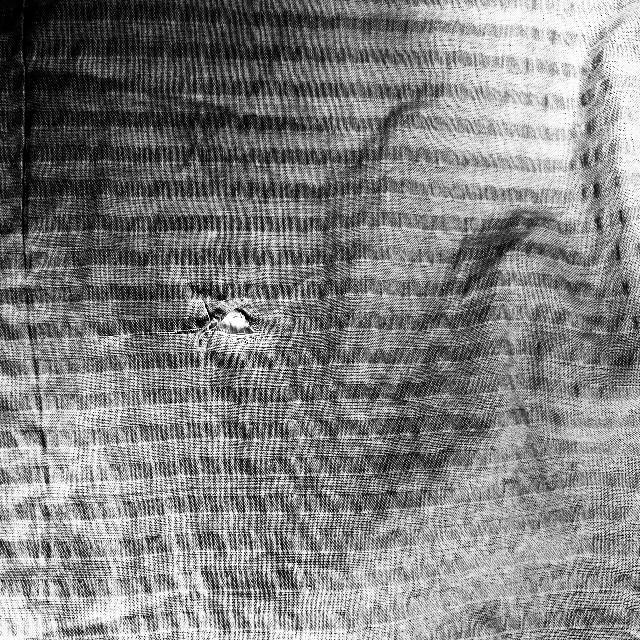Hole: (200, 297, 260, 360)
